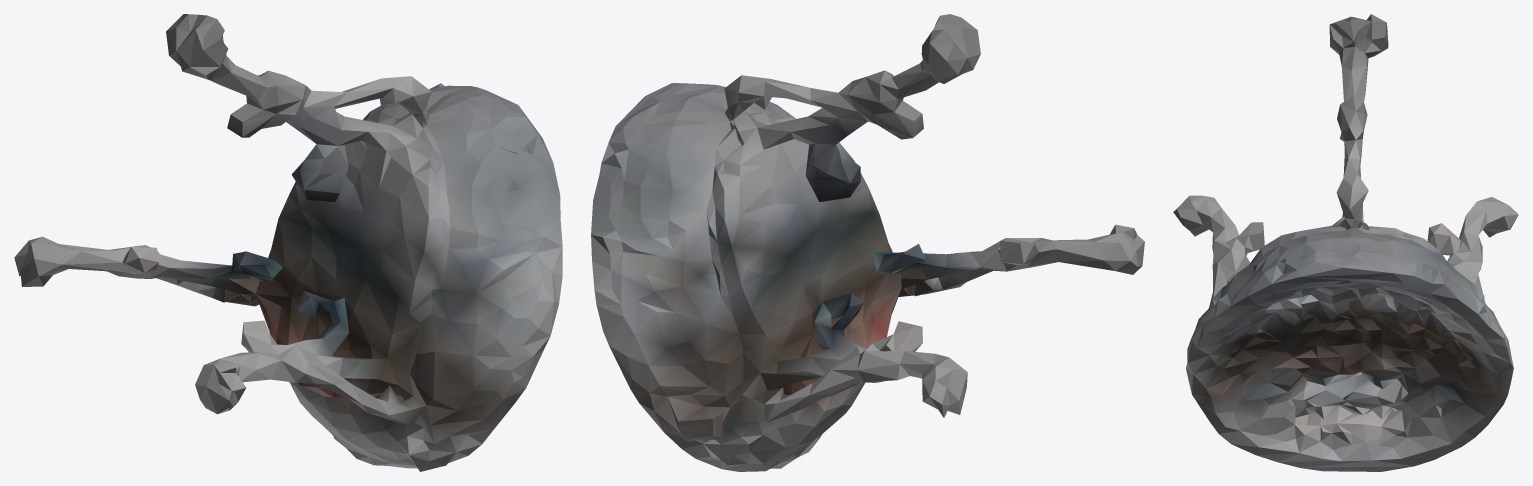
The model's file is brasero_tripode.glb.
The picture shows the model from 3 angles, left to right: view 1: azimuth 30°, elevation 25°; view 2: azimuth 150°, elevation 25°; view 3: azimuth 270°, elevation 25°; orthographic projection. The views are drawn at different scales.
Visible parts, largest first — view 1: Modelo; view 2: Modelo; view 3: Modelo.
Part boxes in pixels (left/top/right/bottom): Modelo: left=14, top=14, right=562, bottom=471; Modelo: left=591, top=14, right=1144, bottom=471; Modelo: left=1173, top=14, right=1518, bottom=471.
Size of the model in its own units: 1.25 by 1.4 by 1.12.
